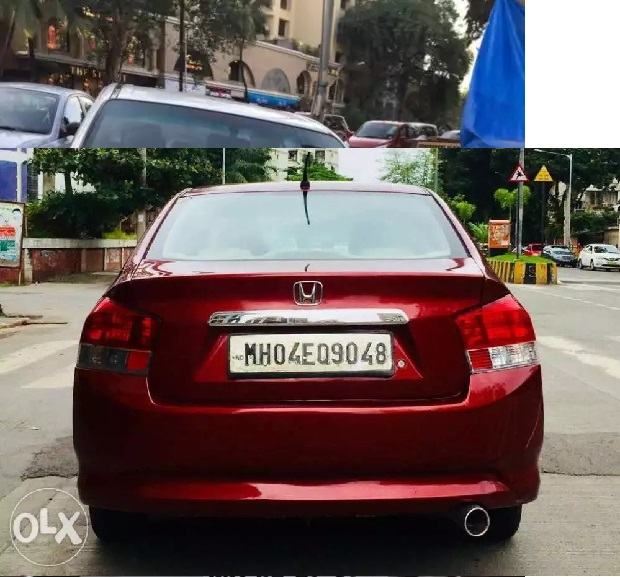licenseplate: (226, 331, 396, 376)
